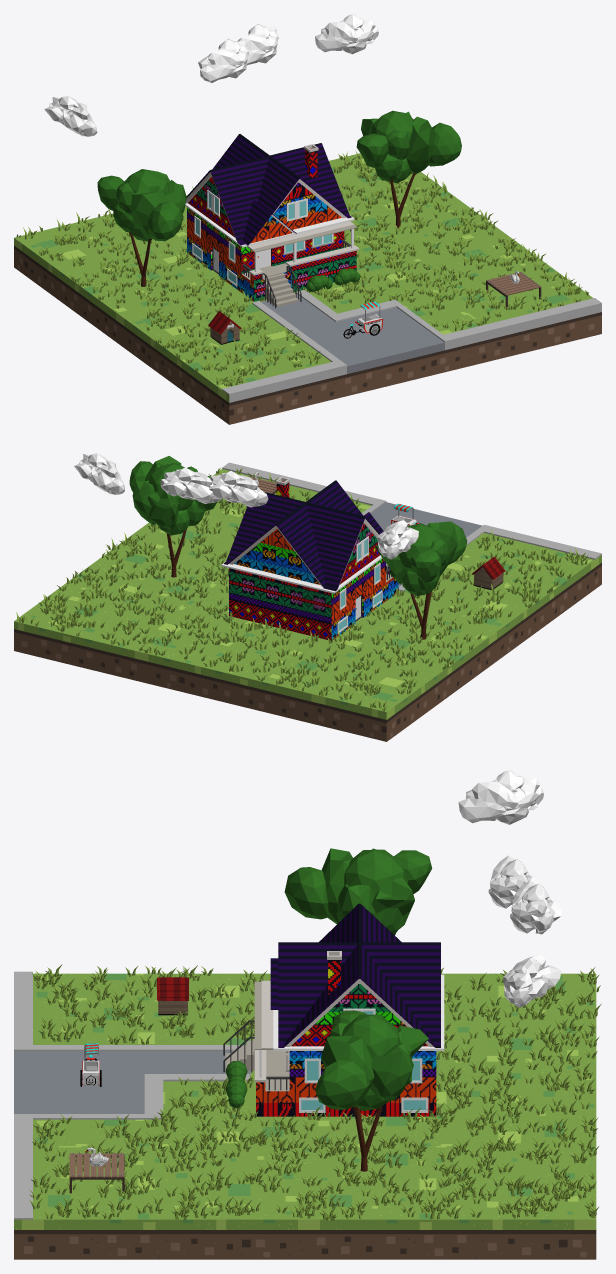
3 views of the same model, one above another, from view 1: azimuth 30°, elevation 25°; view 2: azimuth 150°, elevation 25°; view 3: azimuth 270°, elevation 25° (orthographic). The views are drawn at different scales.
Visible parts, largest first — view 1: Cube.006, Cube.966, Circle.012_Grass_0.192, Cube.007, tree, tree.001, Cube.009, OBJRANDOM_DOGHOUSE, VEHICLES_SNOWBAL_BIKE; view 2: Cube.006, Cube.966, Circle.012_Grass_0.192, Cube.007, tree.001, tree, OBJRANDOM_DOGHOUSE; view 3: Cube.006, Circle.012_Grass_0.192, Cube.966, tree, Cube.007, tree.001, Cube.009, OBJRANDOM_DOGHOUSE, VEHICLES_SNOWBAL_BIKE.
Boxes of the visible parts, left/top/right/bottom form: Cube.006: left=14, top=153, right=601, bottom=424; Cube.966: left=185, top=134, right=359, bottom=308; Circle.012_Grass_0.192: left=16, top=150, right=588, bottom=386; Cube.007: left=44, top=14, right=378, bottom=136; tree: left=356, top=110, right=461, bottom=228; tree.001: left=97, top=169, right=186, bottom=286; Cube.009: left=486, top=272, right=541, bottom=306; OBJRANDOM_DOGHOUSE: left=208, top=311, right=241, bottom=344; VEHICLES_SNOWBAL_BIKE: left=343, top=301, right=383, bottom=338; Cube.006: left=14, top=462, right=601, bottom=741; Cube.966: left=221, top=477, right=398, bottom=640; Circle.012_Grass_0.192: left=16, top=468, right=588, bottom=711; Cube.007: left=74, top=453, right=418, bottom=559; tree.001: left=375, top=521, right=467, bottom=639; tree: left=129, top=456, right=216, bottom=577; OBJRANDOM_DOGHOUSE: left=472, top=556, right=505, bottom=589; Cube.006: left=14, top=971, right=596, bottom=1259; Circle.012_Grass_0.192: left=29, top=964, right=601, bottom=1220; Cube.966: left=223, top=903, right=444, bottom=1116; tree: left=315, top=1010, right=428, bottom=1171; Cube.007: left=458, top=770, right=561, bottom=1007; tree.001: left=284, top=848, right=432, bottom=935; Cube.009: left=69, top=1153, right=124, bottom=1193; OBJRANDOM_DOGHOUSE: left=157, top=977, right=188, bottom=1015; VEHICLES_SNOWBAL_BIKE: left=80, top=1043, right=102, bottom=1086.
Bounding box in the file's own units: 4071 × 2179 × 4040.
41 materials, 7 textured.
